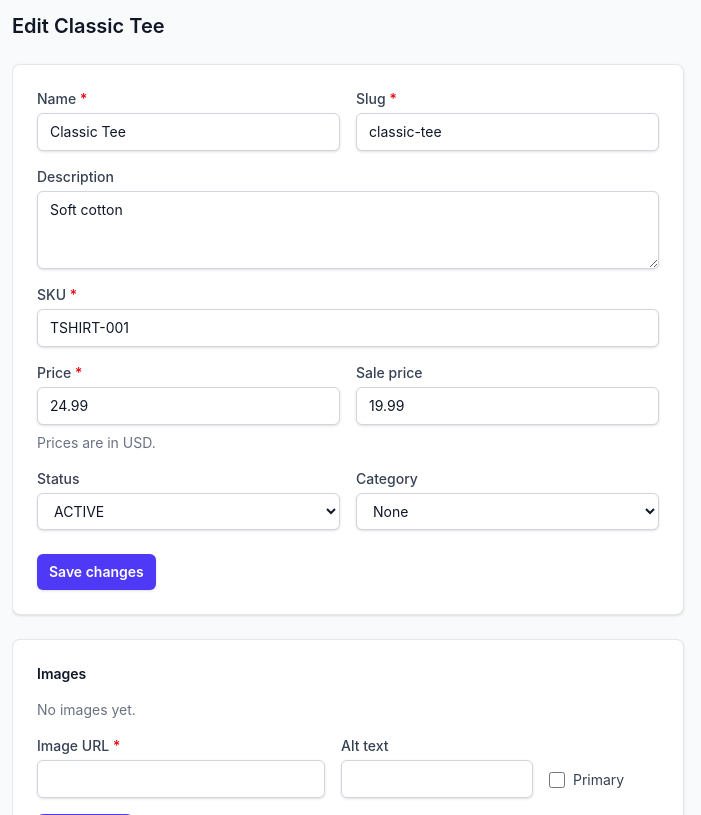
Test: ProductFormPage › clears the sale price and description when their fields are emptied on edit
Clear the field labelled "Sale price": (508, 406) [356,387,659,425]
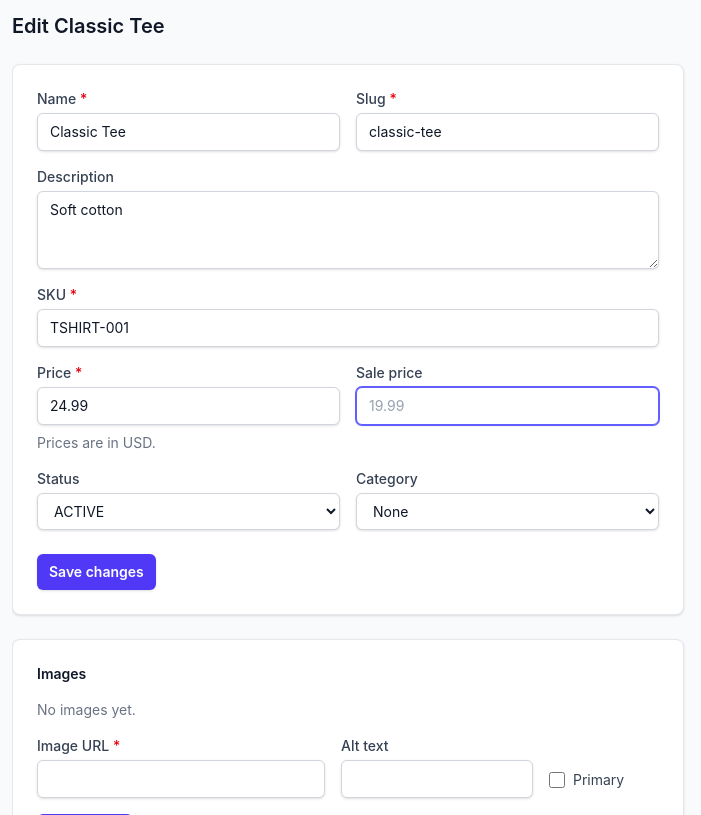
Clear the text box labelled "Description": (348, 230) [37,191,659,269]
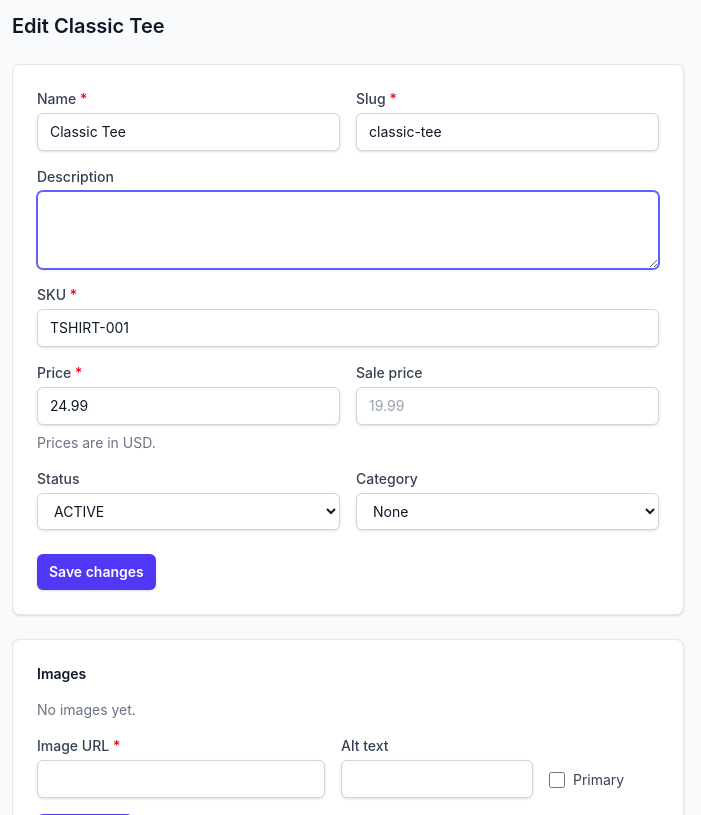
Click the button "Save changes": (96, 572) [37,554,156,590]
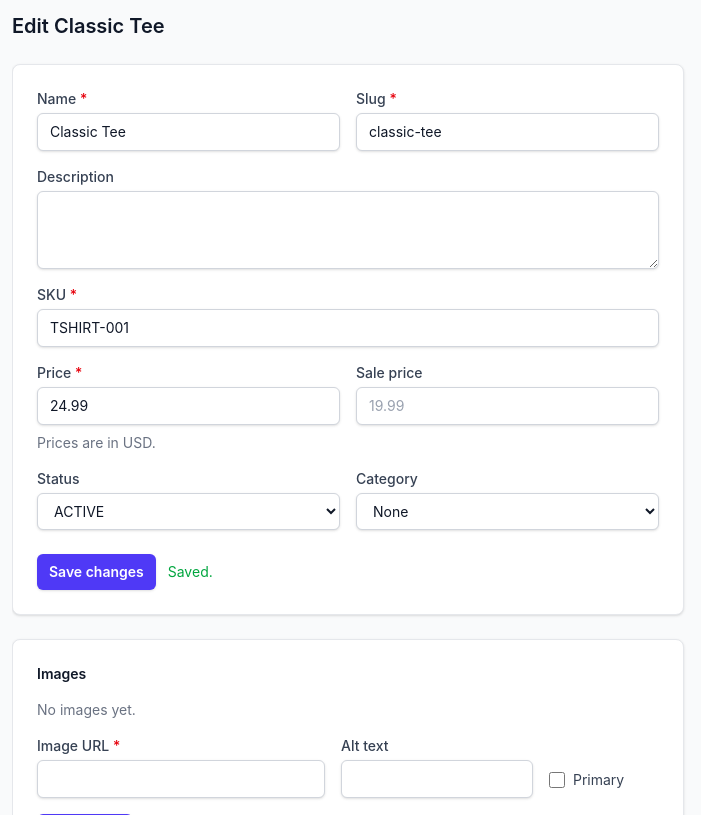
Expected: the text "Saved." is shown, [168,562,213,582]
